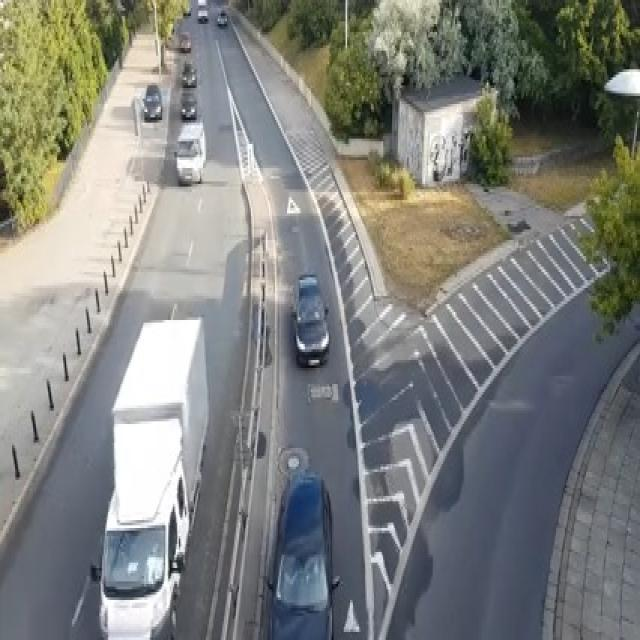car: (290, 272, 329, 365), (174, 120, 206, 184), (141, 83, 162, 120), (180, 91, 197, 120), (180, 59, 197, 85), (179, 29, 191, 51), (196, 0, 207, 21), (216, 8, 227, 27), (172, 16, 184, 32), (182, 3, 191, 16)
